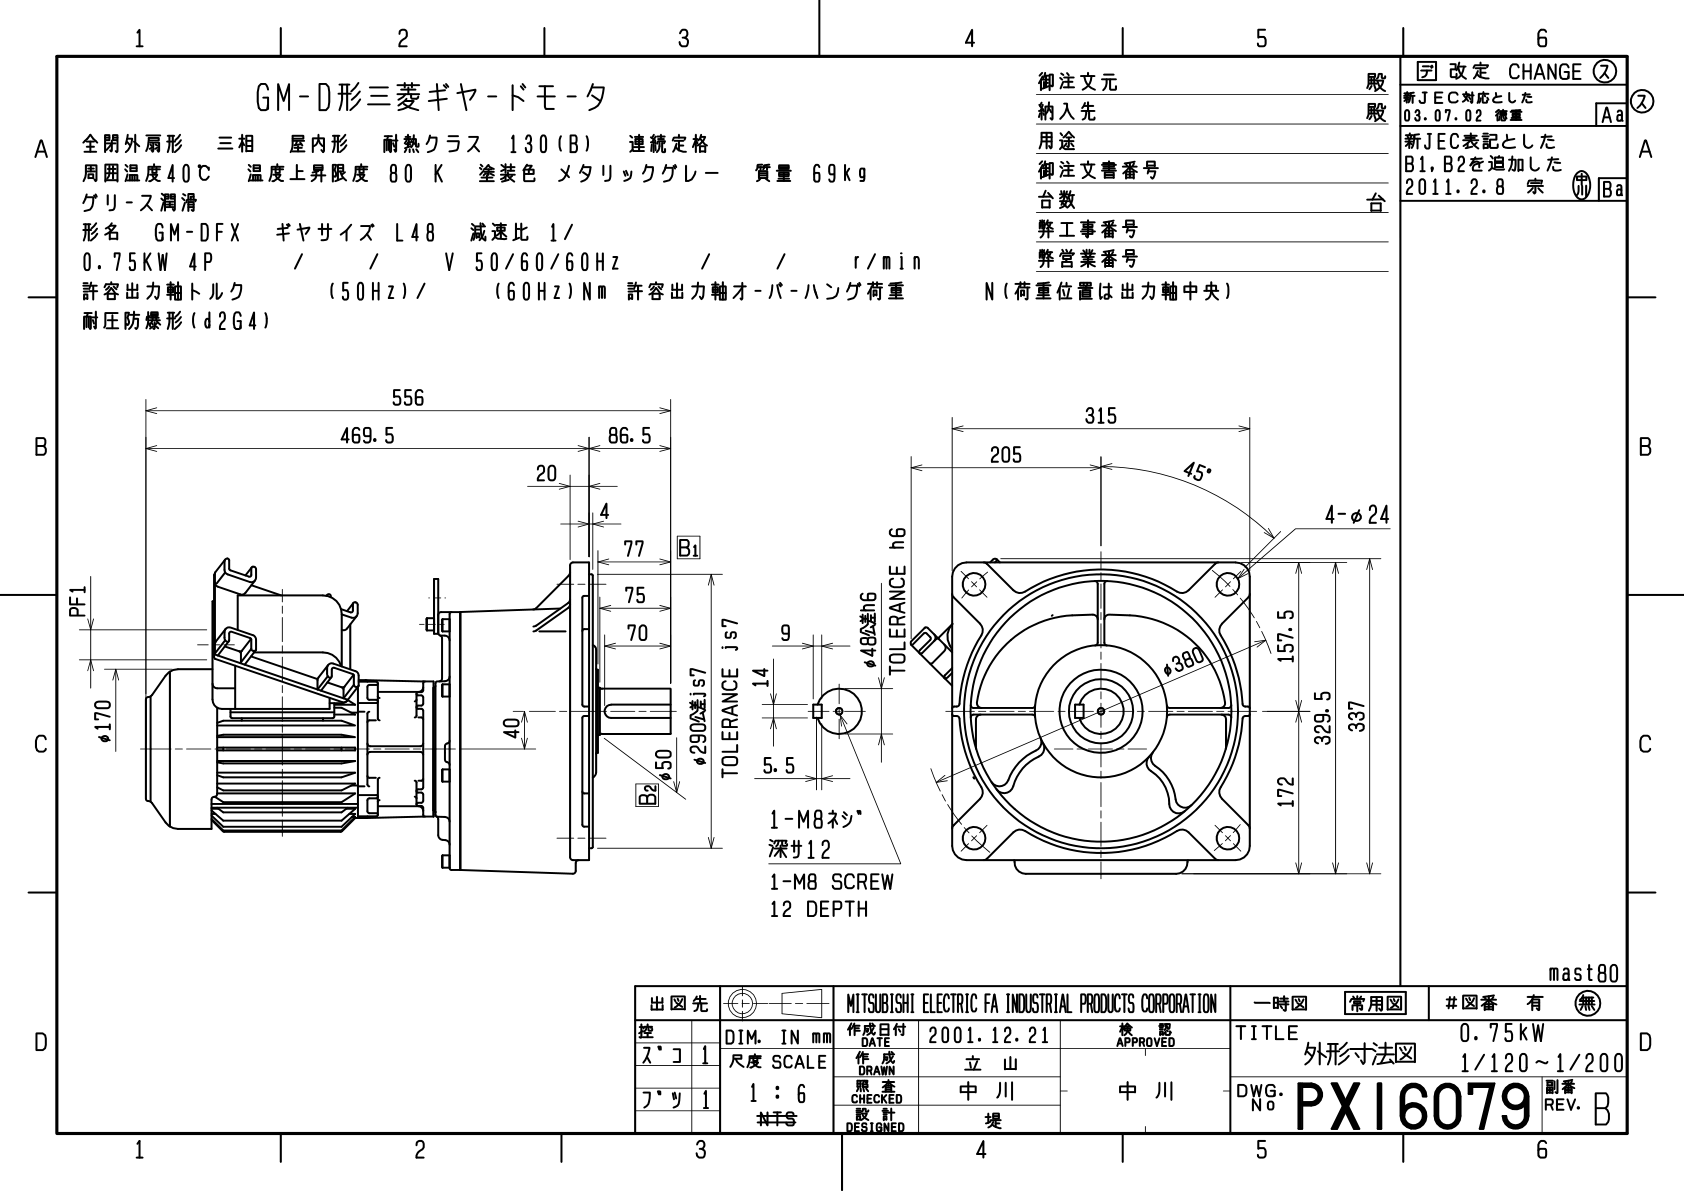GM_SP_屋内＿三相_フランジ: (63, 365, 1392, 938)
